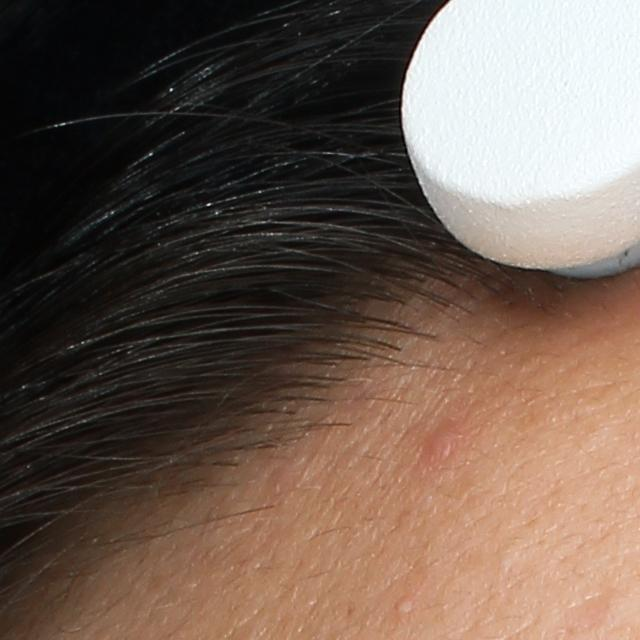atrophic_scar: (556, 582, 625, 636)
papule: (423, 422, 459, 464), (393, 593, 415, 617)
